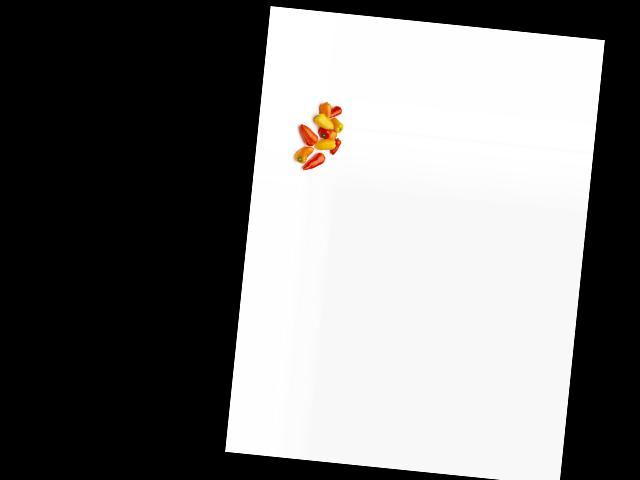bell_pepper: (331, 137, 342, 157)
